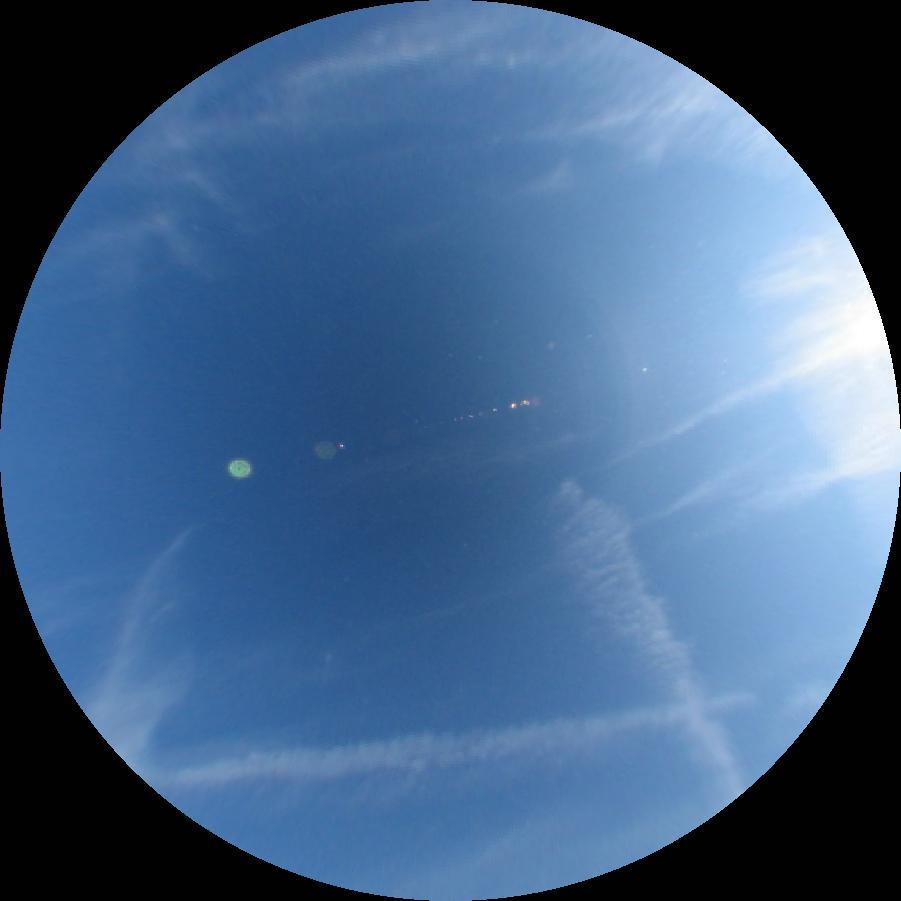contrail veryold: (532, 457, 779, 813), (140, 689, 758, 801), (732, 219, 901, 552)
